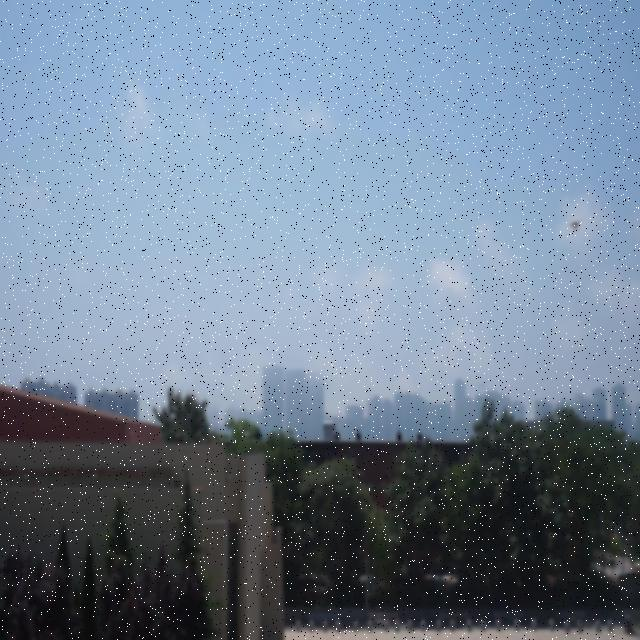UAV: (568, 218, 582, 232)
